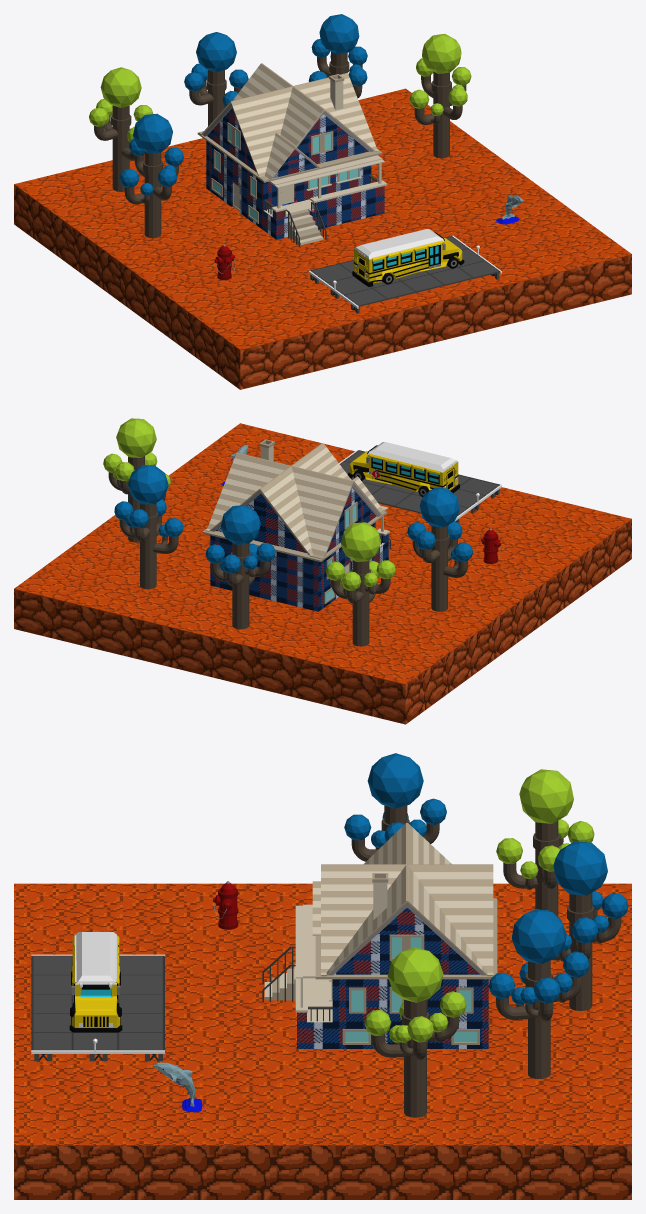
The picture shows the model from 3 angles, top to bottom: view 1: azimuth 30°, elevation 25°; view 2: azimuth 150°, elevation 25°; view 3: azimuth 270°, elevation 25°; orthographic projection. The views are drawn at different scales.
Visible parts, largest first — view 1: Cube.001, Cube.171, VEHICLES_SCHOOL_BUS, OBJRANDOM_FIRE_HYDRANT; view 2: Cube.001, Cube.171, VEHICLES_SCHOOL_BUS, OBJRANDOM_FIRE_HYDRANT; view 3: Cube.001, Cube.171, VEHICLES_SCHOOL_BUS, OBJRANDOM_FIRE_HYDRANT, ANIMAL_DELFIN.
Boxes of the visible parts, box(x1,y1,x2,y2) form: Cube.001: box(14, 14, 631, 389); Cube.171: box(197, 63, 387, 246); VEHICLES_SCHOOL_BUS: box(352, 229, 464, 286); OBJRANDOM_FIRE_HYDRANT: box(214, 244, 235, 279); Cube.001: box(14, 418, 631, 724); Cube.171: box(202, 439, 390, 611); VEHICLES_SCHOOL_BUS: box(348, 442, 459, 496); OBJRANDOM_FIRE_HYDRANT: box(481, 528, 501, 563); Cube.001: box(14, 753, 631, 1199); Cube.171: box(262, 823, 497, 1048); VEHICLES_SCHOOL_BUS: box(69, 932, 122, 1032); OBJRANDOM_FIRE_HYDRANT: box(213, 881, 238, 929); ANIMAL_DELFIN: box(153, 1062, 204, 1112).
Size of the model in its own units: 4000 by 1672 by 4000.
33 materials, 5 textured.
